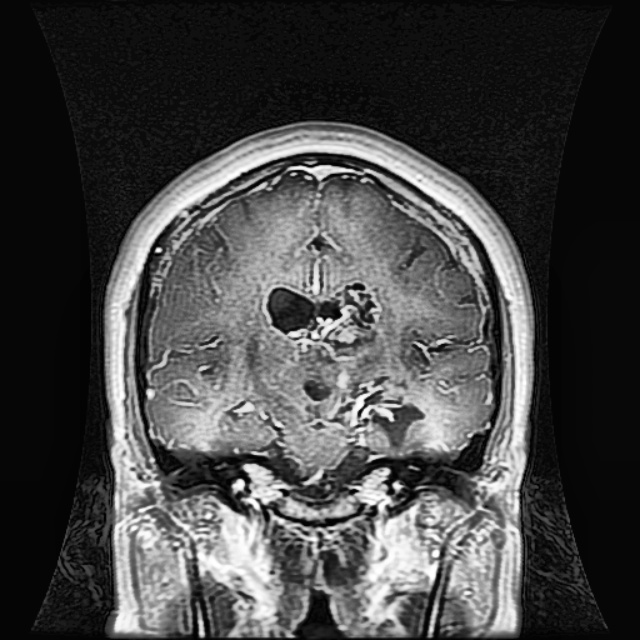Meningioma: (263, 283, 384, 349)
